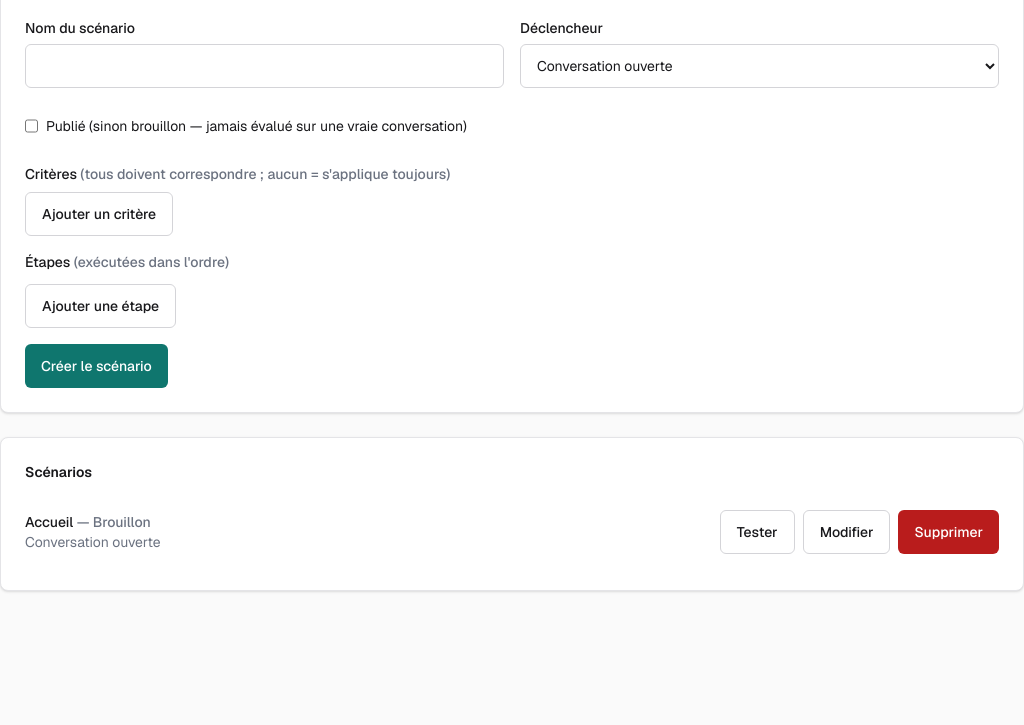
Test case: AutomationScenariosPage › teste un scenario et affiche le resultat
Check: the text "Accueil" is shown, box [25,513,73,531]
Click the button "Tester". click: (757, 532)
box: [720,510,795,554]
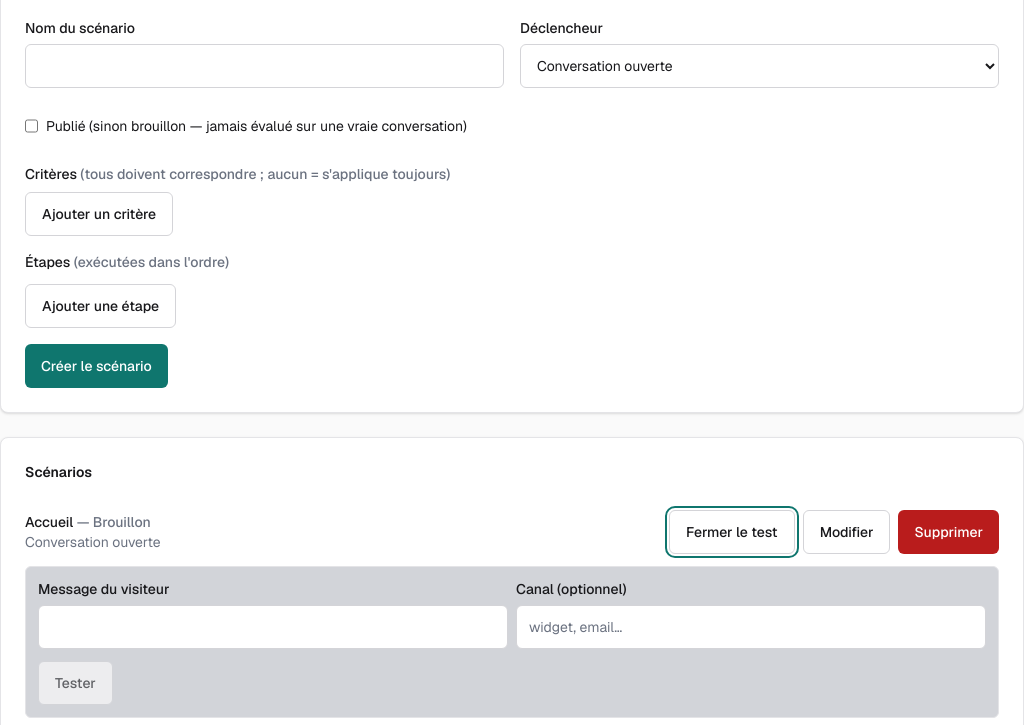
Type "Bonjour." into the field labelled "Message du visiteur". click: (273, 627)
box: [38,605,508,649]
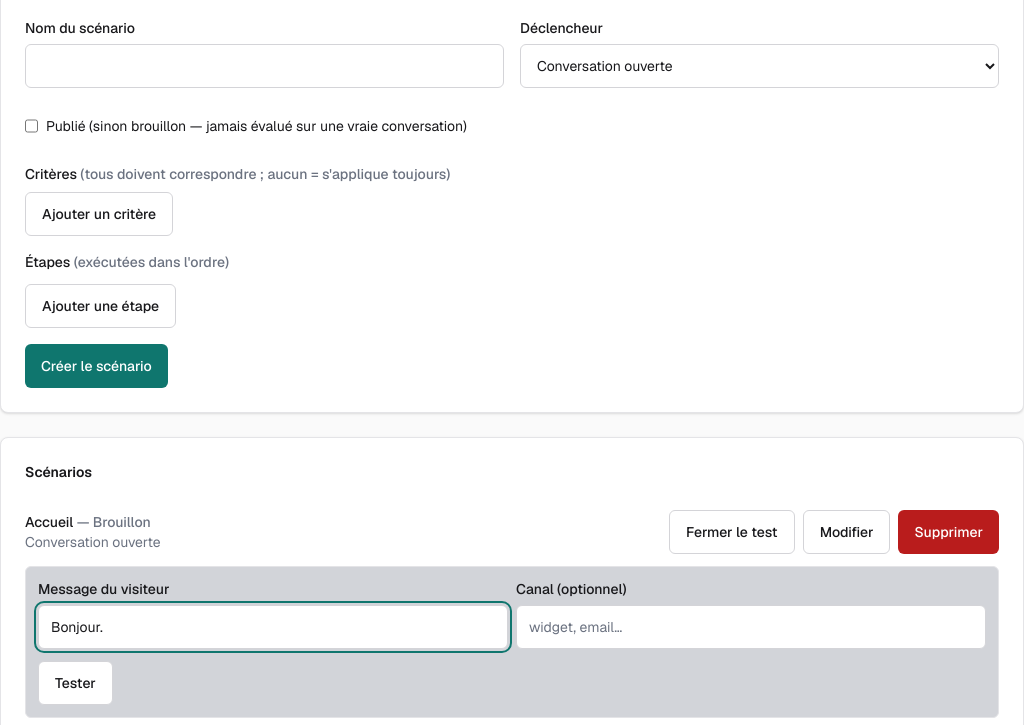
Click the button "Tester". click: (75, 683)
box: [38,661,113,705]
(page scrolled)
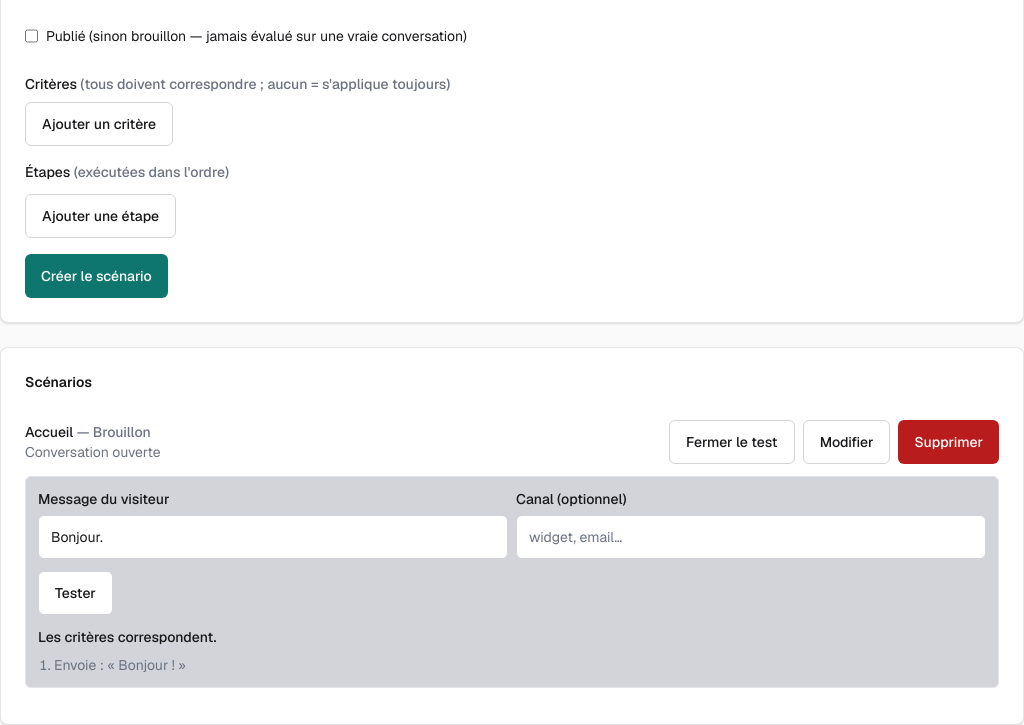
Check: the text "Les critères correspondent." is shown, box [38,628,216,646]
Check: the list item "Envoie : « Bonjour ! »" is shown, box [54,656,186,674]
